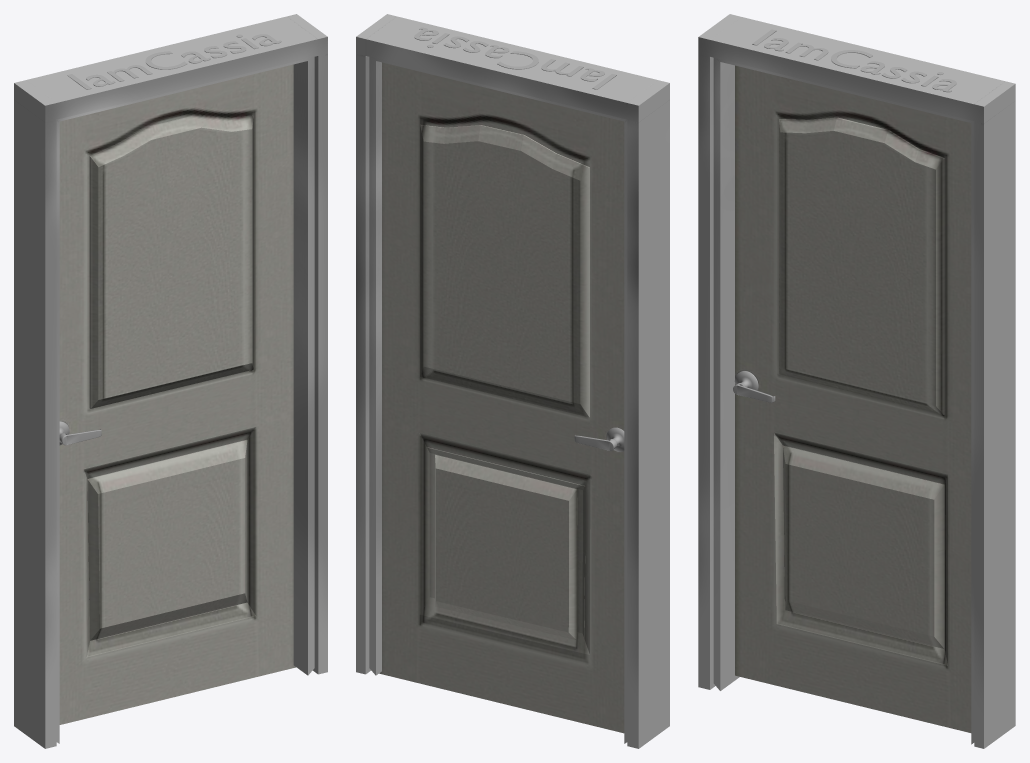
3 renders of one model, left to right at view 1: azimuth 30°, elevation 25°; view 2: azimuth 150°, elevation 25°; view 3: azimuth 330°, elevation 25°, orthographic.
Parts seen in each view (by area): view 1: door, Frame; view 2: door, Frame; view 3: door, Frame.
Boxes of the visible parts, left/top/right/bottom form: door: left=59, top=64, right=295, bottom=724; Frame: left=14, top=14, right=327, bottom=748; door: left=379, top=62, right=624, bottom=733; Frame: left=356, top=14, right=669, bottom=748; door: left=733, top=65, right=971, bottom=732; Frame: left=698, top=14, right=1015, bottom=748.
Bounding box in the file's own units: 3117 × 6807 × 595.
Materials: 3 (2 with a texture image).
